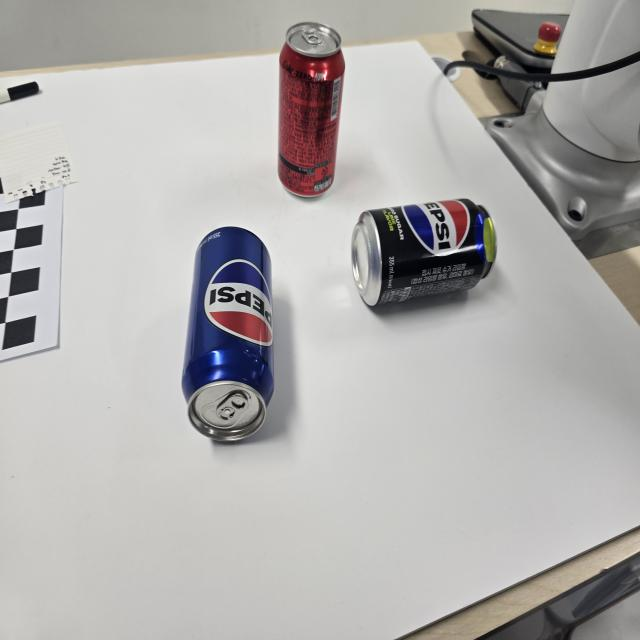can_coke_zero: (278, 21, 345, 197)
can_pepsi: (182, 227, 274, 441)
can_pepsi_zero: (351, 199, 497, 306)
